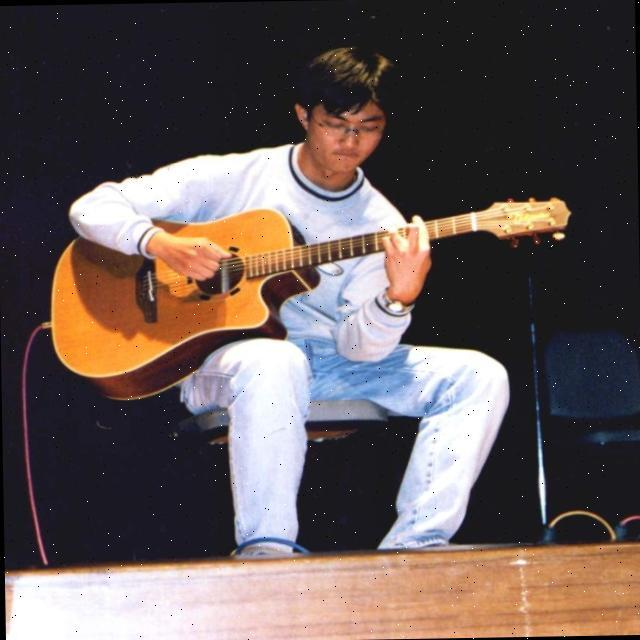acousticguitar: (52, 210, 388, 398)
